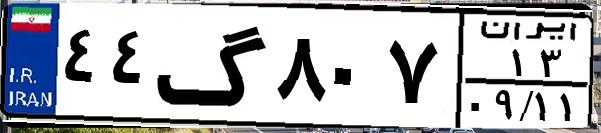0: (330, 28, 385, 110), (470, 70, 495, 125)
1: (560, 70, 590, 125), (508, 27, 537, 80), (535, 70, 560, 125)
3: (537, 27, 568, 80)
4: (57, 26, 110, 100), (110, 28, 156, 98)
7: (385, 28, 445, 110)
8: (270, 28, 330, 110)
9: (495, 70, 520, 125)
گ: (156, 12, 270, 120)
